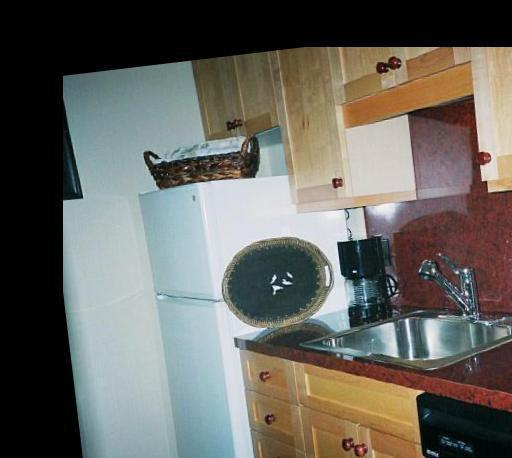Electrodomestico: (140, 185, 261, 458), (419, 373, 512, 458)
Lavaplatos: (291, 242, 512, 398)
